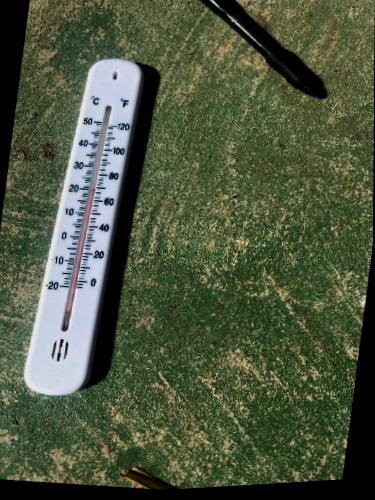thermo: (19, 53, 156, 401)
